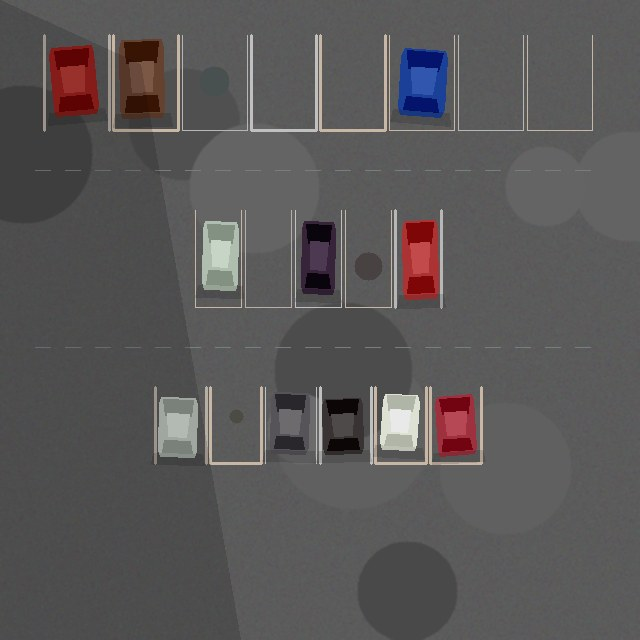space-empty: (182, 35, 247, 130), (251, 35, 316, 130), (320, 35, 385, 130), (458, 35, 523, 130), (527, 35, 592, 130), (245, 210, 291, 307), (345, 210, 391, 307), (210, 387, 261, 463)
space-occupied: (44, 35, 109, 130), (113, 35, 178, 130), (389, 35, 454, 130), (195, 210, 241, 307), (295, 210, 341, 307), (395, 210, 441, 307), (155, 387, 206, 463), (265, 387, 316, 463), (320, 387, 371, 463), (375, 387, 426, 463), (430, 387, 481, 463)
